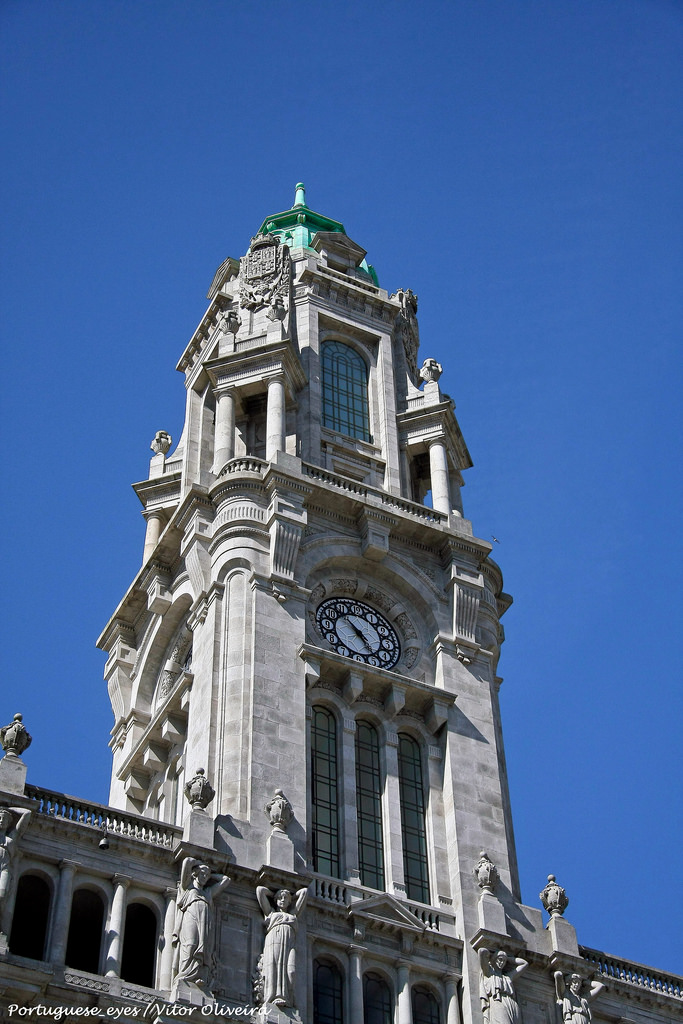camara: (0, 178, 682, 1023)
